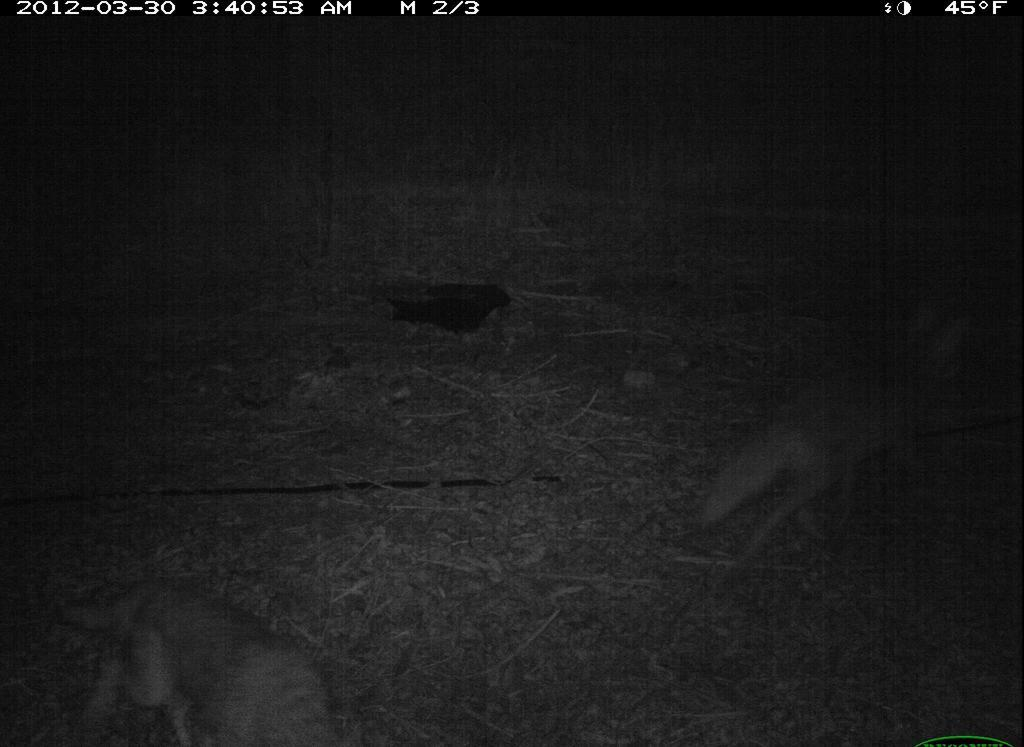coyote: (679, 263, 990, 575)
